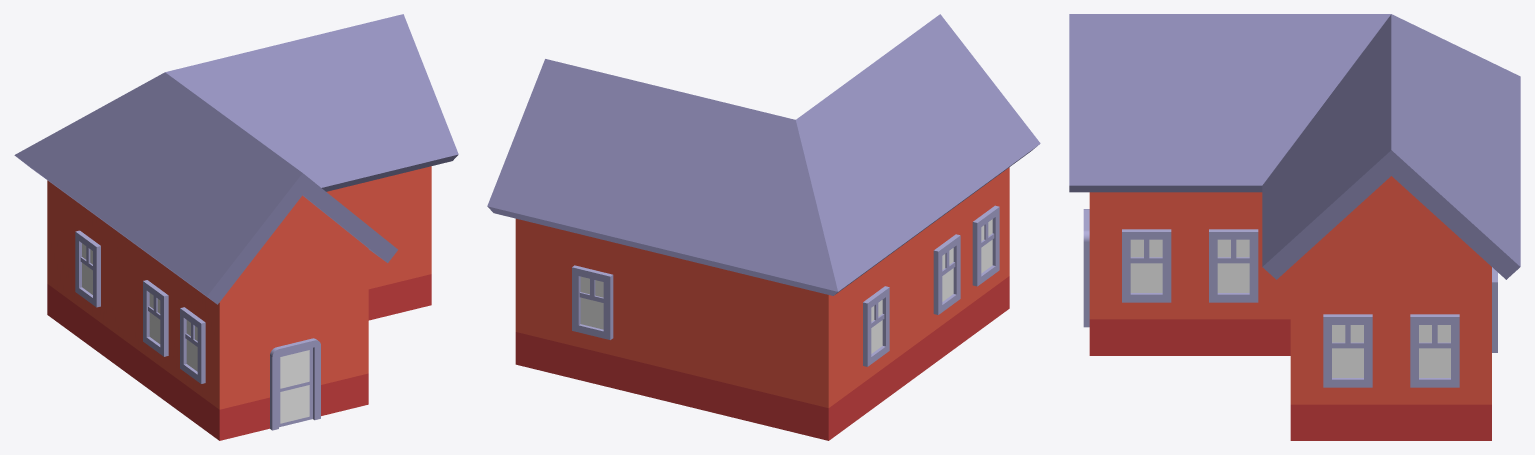
The model's file is house1.fbx.
3 views of the same model, side by side, from view 1: azimuth 30°, elevation 25°; view 2: azimuth 150°, elevation 25°; view 3: azimuth 270°, elevation 25° (orthographic). The views are drawn at different scales.
Parts seen in each view (by area): view 1: mergedBlocks; view 2: mergedBlocks; view 3: mergedBlocks.
Boxes of the visible parts, x1,y1,x2,y2 form: mergedBlocks: (14, 14, 458, 440); mergedBlocks: (487, 14, 1040, 440); mergedBlocks: (1069, 14, 1520, 440).
Size of the model in its own units: 11.21 by 8.21 by 11.21.
